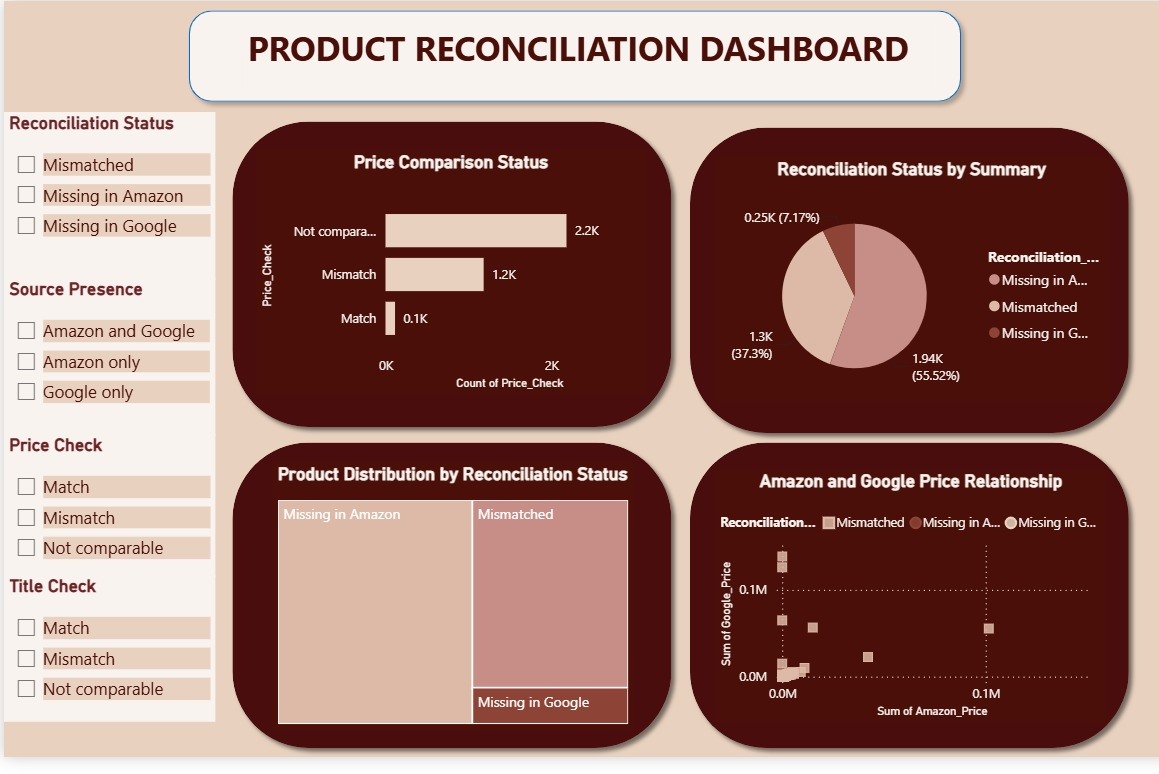

The page's visual inventory and layout, read from the dashboard file:
{"tool":"powerbi","page":{"name":"Dashboard 2","canvas":[1280,720],"ordinal":1},"visuals":[{"type":"shape","box":[166.7,0,753.3,105],"z":0},{"type":"shape","box":[208.3,411.7,436,309],"z":1000},{"type":"shape","box":[645,411.7,436,309],"z":2000},{"type":"shape","box":[208.3,105,436,309],"z":3000},{"type":"shape","box":[645,111.7,436,309],"z":4000},{"type":"scatterChart","title":"Amazon and Google Price Relationship","fields":{"Category":["Final_Reconciliation.Amazon_Title"],"Series":["Final_Reconciliation.Reconciliation_Status"],"X":["Sum(Final_Reconciliation.Amazon_Price)"],"Y":["Sum(Final_Reconciliation.Google_Price)"]},"box":[676.7,446.7,373.3,240],"z":5000},{"type":"treemap","title":"Product Distribution by Reconciliation Status","fields":{"Details":["Final_Reconciliation.Reconciliation_Status"],"Values":["CountNonNull(Final_Reconciliation.Reconciliation_Status)"]},"box":[255,440,343.3,253.3],"z":6000},{"type":"pieChart","title":"Reconciliation Status by Summary","fields":{"Category":["Final_Reconciliation.Reconciliation_Status"],"Y":["CountNonNull(Final_Reconciliation.Reconciliation_Status)"]},"box":[676.7,150,375,231.7],"z":7000},{"type":"barChart","title":"Price Comparison Status","fields":{"Category":["Final_Reconciliation.Price_Check"],"Y":["CountNonNull(Final_Reconciliation.Price_Check)"]},"box":[240,143.3,371.7,231.7],"z":8000},{"type":"slicer","title":"Reconciliation Status","fields":{"Values":["Final_Reconciliation.Reconciliation_Status"]},"box":[0,105.4,201.4,159.5],"z":9000},{"type":"slicer","title":"Source Presence","fields":{"Values":["Final_Reconciliation.Source_Presence"]},"box":[0,264.9,201,150],"z":10000},{"type":"slicer","title":"Price Check","fields":{"Values":["Final_Reconciliation.Price_Check"]},"box":[0,412.2,201.4,135.1],"z":11000},{"type":"slicer","title":"Title Check","fields":{"Values":["Final_Reconciliation.Title_Check"]},"box":[0,547.3,201.4,139.2],"z":12000},{"type":"textbox","box":[227,17.6,659.5,67.6],"z":13000}]}

Visuals, with their boxes on the page's 1280x720 design canvas (x1, y1, x2, y2). These are canvas units, not pixel positions in the 1159x774 screenshot, which may show the page scaled, cropped or inside an application window:
shape: (167, 0, 920, 105)
shape: (208, 412, 644, 721)
shape: (645, 412, 1081, 721)
shape: (208, 105, 644, 414)
shape: (645, 112, 1081, 421)
"Amazon and Google Price Relationship" scatterChart: (677, 447, 1050, 687)
"Product Distribution by Reconciliation Status" treemap: (255, 440, 598, 693)
"Reconciliation Status by Summary" pieChart: (677, 150, 1052, 382)
"Price Comparison Status" barChart: (240, 143, 612, 375)
"Reconciliation Status" slicer: (0, 105, 201, 265)
"Source Presence" slicer: (0, 265, 201, 415)
"Price Check" slicer: (0, 412, 201, 547)
"Title Check" slicer: (0, 547, 201, 686)
textbox: (227, 18, 886, 85)
